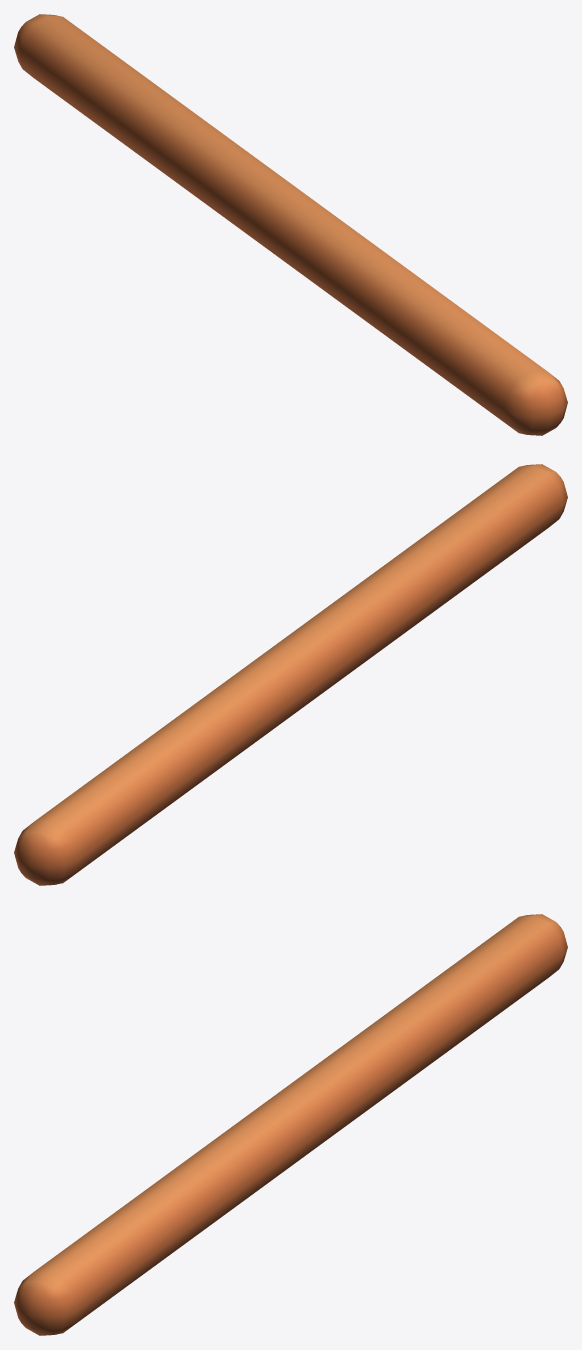
Rendered from WaterLine.fbx.
3 views of the same model, one above another, from view 1: azimuth 30°, elevation 25°; view 2: azimuth 150°, elevation 25°; view 3: azimuth 330°, elevation 25° (orthographic).
Visible parts, largest first — view 1: WaterLine; view 2: WaterLine; view 3: WaterLine.
Boxes of the visible parts, box(x1,y1,x2,y2) form: WaterLine: box(14, 14, 567, 435); WaterLine: box(14, 464, 567, 885); WaterLine: box(14, 914, 567, 1335).
Size of the model in its own units: 0.1302 by 0.1302 by 1.97.
